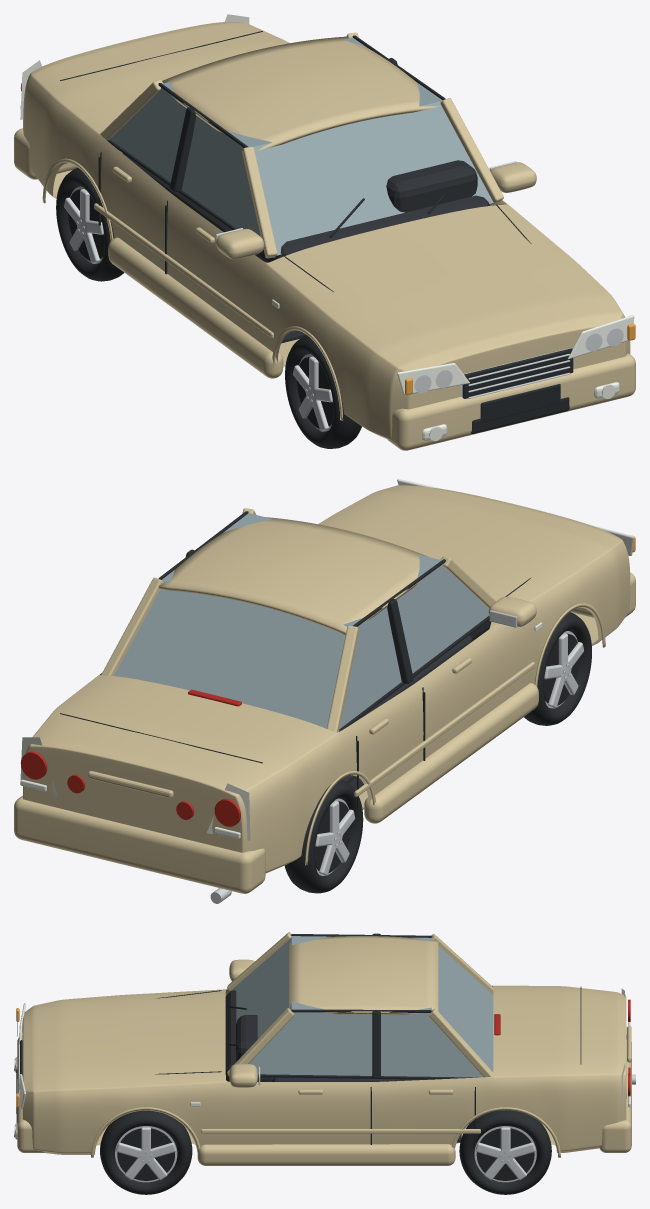
The picture shows the model from 3 angles, top to bottom: view 1: azimuth 30°, elevation 25°; view 2: azimuth 150°, elevation 25°; view 3: azimuth 270°, elevation 25°; orthographic projection. The views are drawn at different scales.
Visible parts, largest first — view 1: IS200 sedan body, Glazed cabin, Crowned roof, Rounded bumper cover, Rounded body sill, Instrument binnacle, Tyre, Tyre.001, Dashboard, Grille, Front plate backing, Window pillar (+13 smaller); view 2: IS200 sedan body, Glazed cabin, Crowned roof, Rounded bumper cover.001, Rounded body sill, Tyre.001, Tyre, Window pillar.001, Side moulding, Window pillar.004, Window pillar.002, Door mirror (+8 smaller); view 3: IS200 sedan body, Glazed cabin, Crowned roof, Rounded body sill.001, Tyre.002, Tyre.003, Side moulding.001, Recessed wheel face.003, Recessed wheel face.002, Rounded bumper cover.001, Dashboard, Window pillar.004 (+14 smaller).
Part boxes in pixels (left/top/right/bottom): IS200 sedan body: left=23, top=22, right=630, bottom=439; Glazed cabin: left=110, top=37, right=493, bottom=255; Crowned roof: left=162, top=36, right=439, bottom=151; Rounded bumper cover: left=387, top=353, right=635, bottom=450; Rounded body sill: left=108, top=237, right=283, bottom=378; Instrument binnacle: left=386, top=160, right=477, bottom=212; Tyre: left=285, top=335, right=361, bottom=448; Tyre.001: left=56, top=168, right=124, bottom=281; Dashboard: left=255, top=195, right=489, bottom=262; Grille: left=462, top=348, right=573, bottom=398; Front plate backing: left=480, top=384, right=560, bottom=422; Window pillar: left=242, top=147, right=277, bottom=258; IS200 sedan body: left=23, top=485, right=630, bottom=873; Glazed cabin: left=114, top=513, right=489, bottom=728; Crowned roof: left=158, top=517, right=428, bottom=634; Rounded bumper cover.001: left=14, top=795, right=265, bottom=893; Rounded body sill: left=364, top=683, right=538, bottom=823; Tyre.001: left=284, top=779, right=363, bottom=893; Tyre: left=524, top=612, right=591, bottom=725; Window pillar.001: left=326, top=625, right=359, bottom=732; Side moulding: left=354, top=662, right=534, bottom=796; Window pillar.004: left=101, top=577, right=163, bottom=675; Window pillar.002: left=387, top=599, right=413, bottom=683; Door mirror: left=488, top=596, right=536, bottom=626; IS200 sedan body: left=22, top=985, right=626, bottom=1154; Glazed cabin: left=230, top=936, right=493, bottom=1077; Crowned roof: left=289, top=936, right=438, bottom=1014; Rounded body sill.001: left=197, top=1144, right=455, bottom=1165; Tyre.002: left=100, top=1110, right=192, bottom=1194; Tyre.003: left=459, top=1110, right=551, bottom=1194; Side moulding.001: left=201, top=1129, right=480, bottom=1133; Recessed wheel face.003: left=476, top=1128, right=534, bottom=1180; Recessed wheel face.002: left=117, top=1128, right=174, bottom=1180; Rounded bumper cover.001: left=599, top=1039, right=631, bottom=1152; Dashboard: left=225, top=990, right=274, bottom=1081; Window pillar.004: left=428, top=1008, right=492, bottom=1077.
Size of the model in its own units: 2.05 by 1.47 by 4.53.
